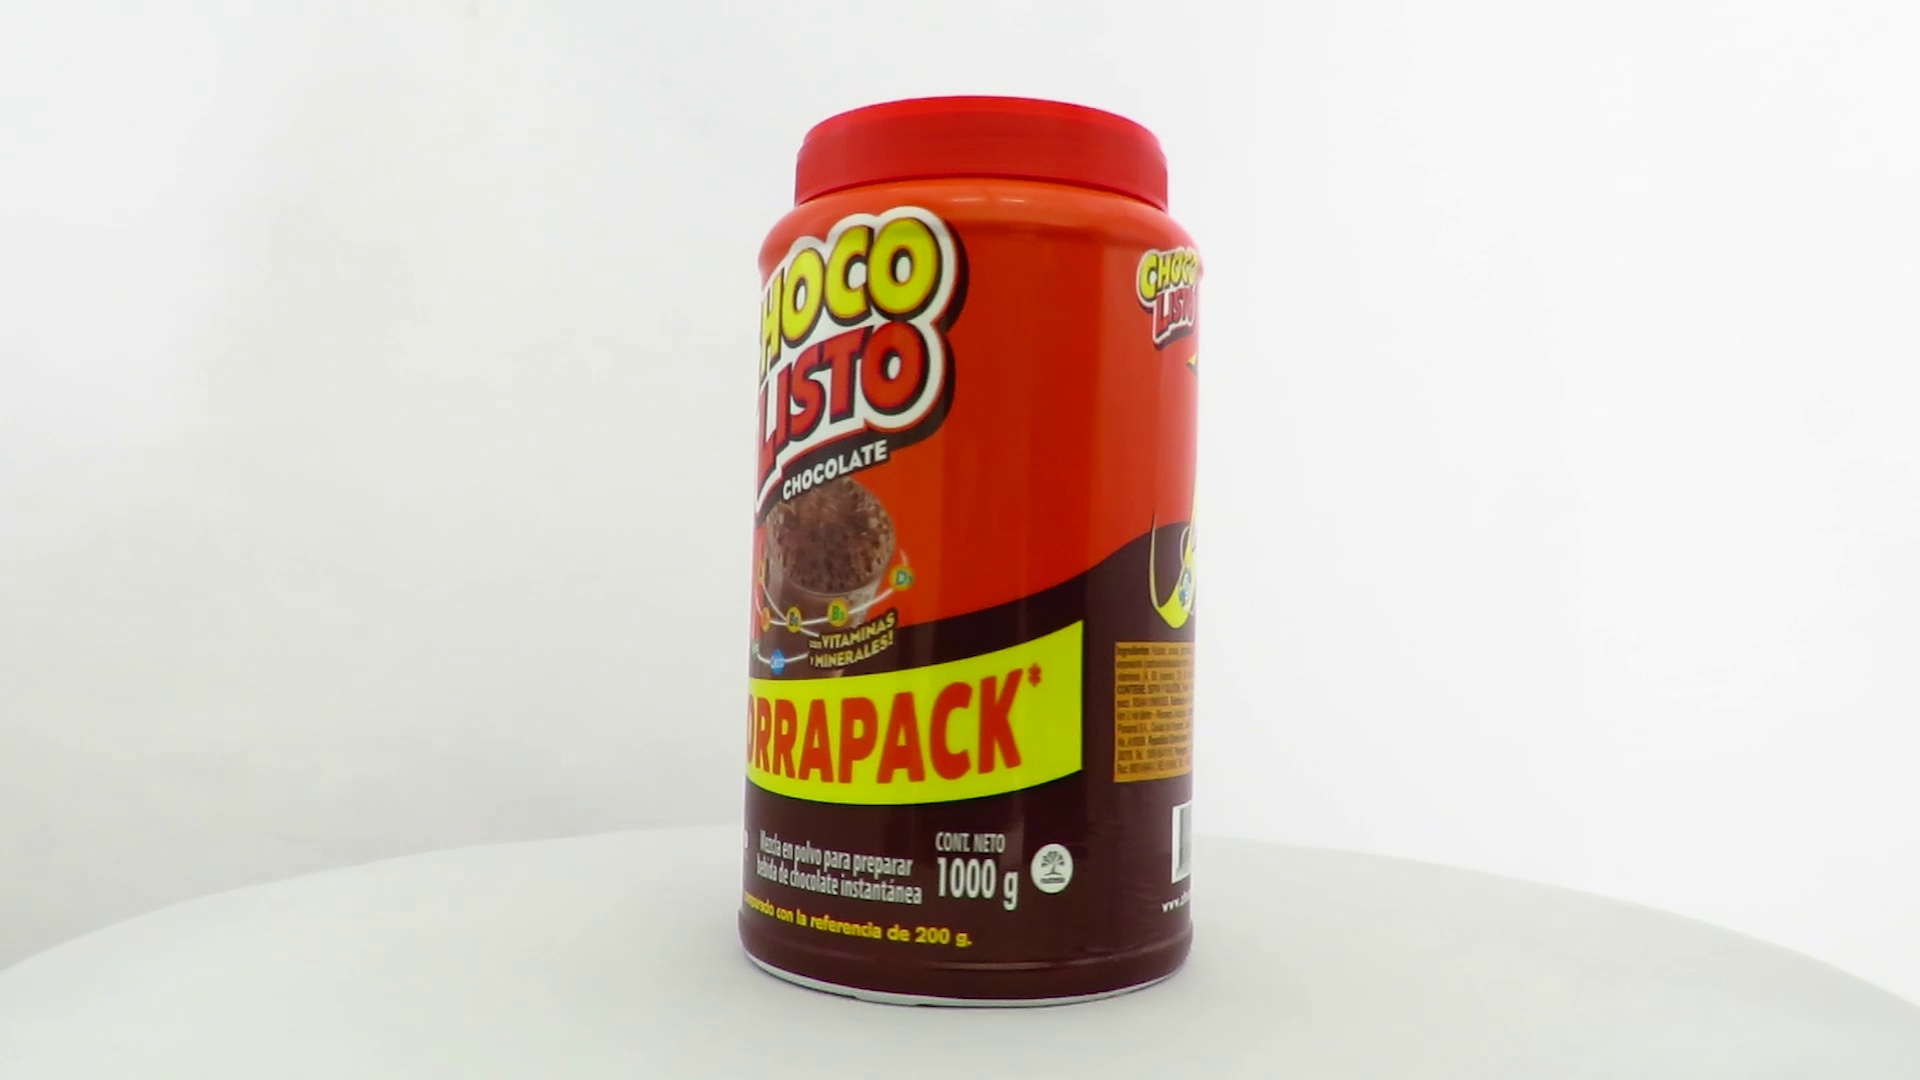COL0170103TRR00100: (733, 90, 1211, 1015)
